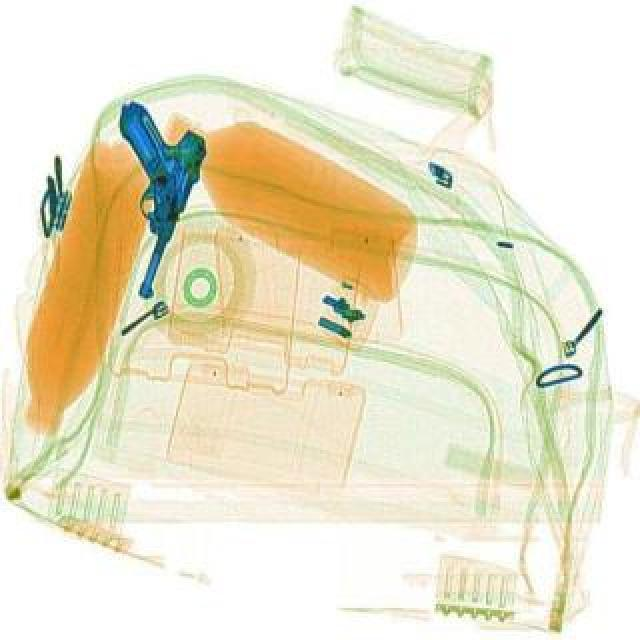gun: (98, 96, 212, 302)
